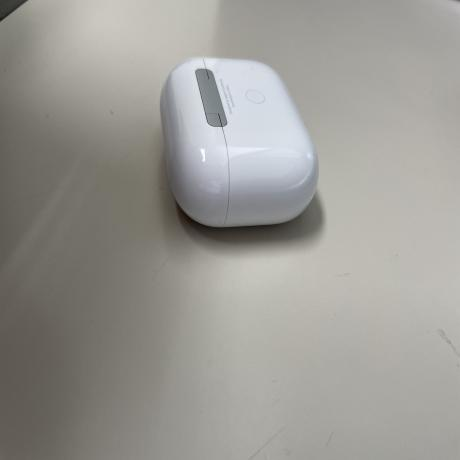airpod3: (160, 50, 320, 239)
